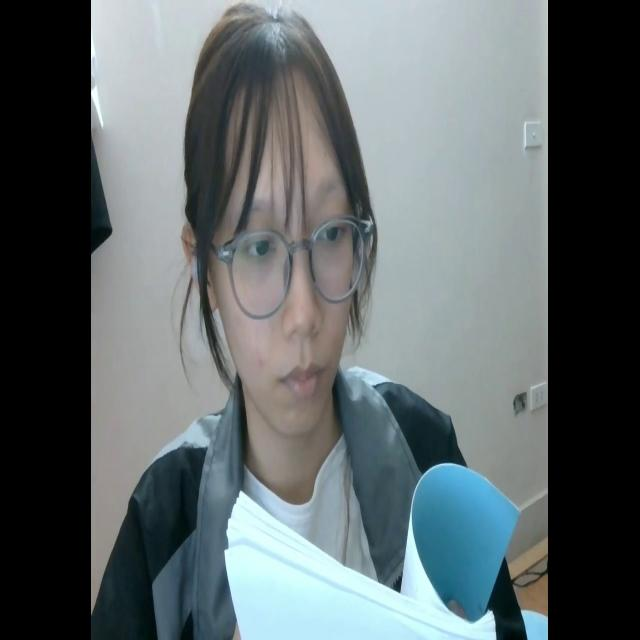book: (214, 458, 523, 633)
student: (98, 0, 529, 640)
